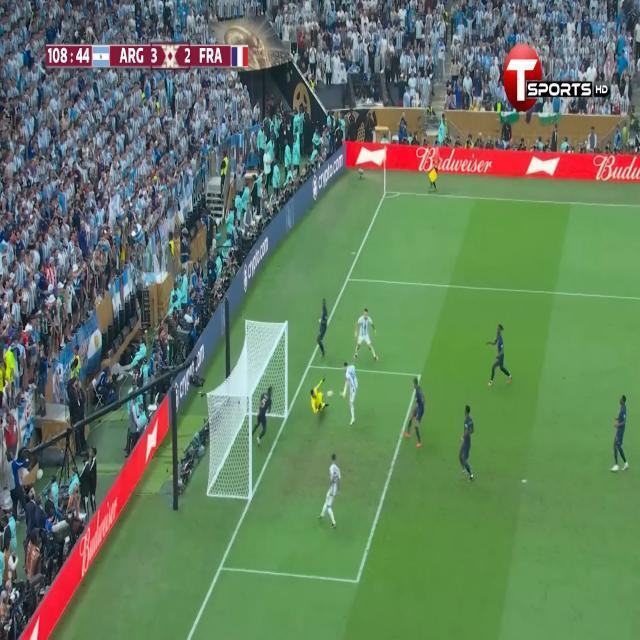ball: (327, 388, 335, 400)
goalkeeper: (610, 389, 627, 472), (307, 371, 331, 414)
player: (454, 398, 477, 494), (352, 301, 382, 369), (257, 372, 277, 454), (490, 321, 513, 390), (325, 450, 342, 540), (405, 368, 423, 453), (344, 352, 359, 429), (316, 293, 329, 361)
referee: (427, 147, 440, 198)
